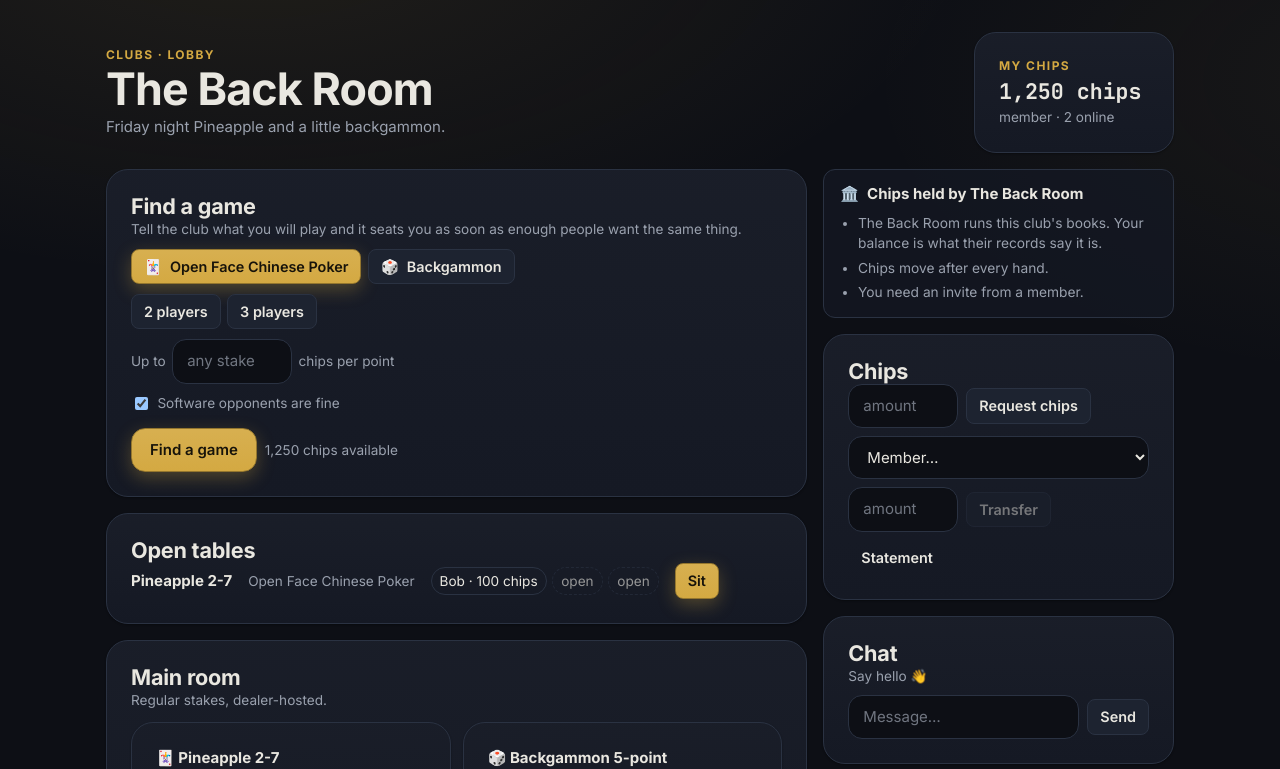
Test: finding a game › cancelling leaves the queue and says so
The width and height of the screenshot is (1280, 769).
Click the button with test id "queue-button" at coordinates (194, 450), box [131,428,257,472]
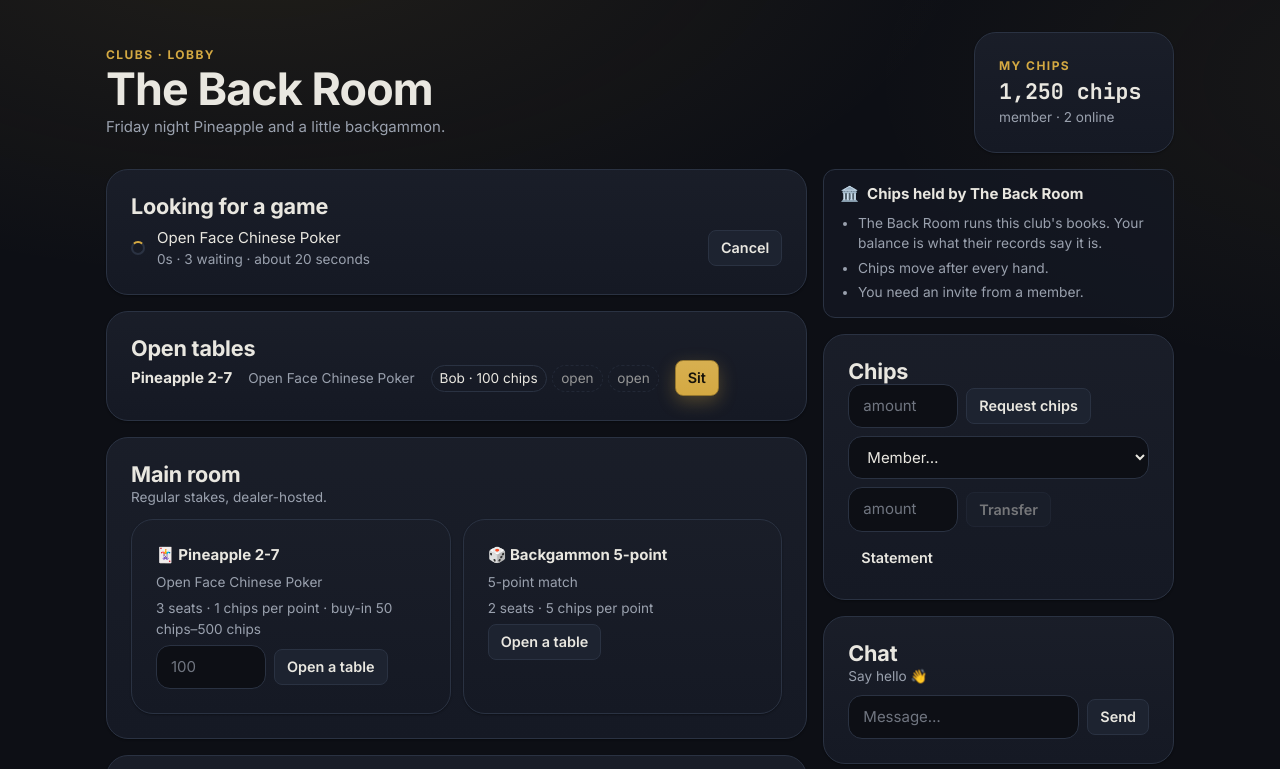
expect the button with test id "cancel-queue" is shown: met
Click the button with test id "cancel-queue" at coordinates (745, 248), box [708,230,782,266]
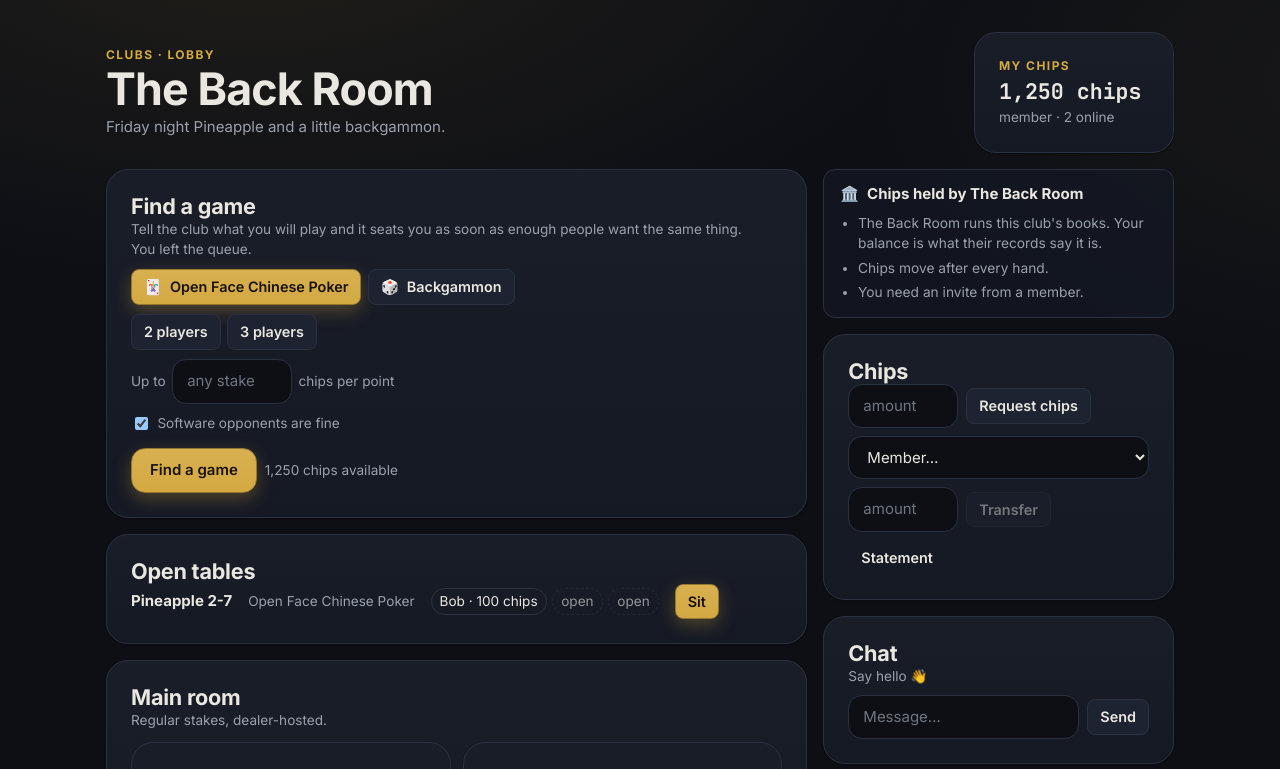
expect the message with test id "queue-ended" reads "You left the queue.": met, box [131,241,252,257]
